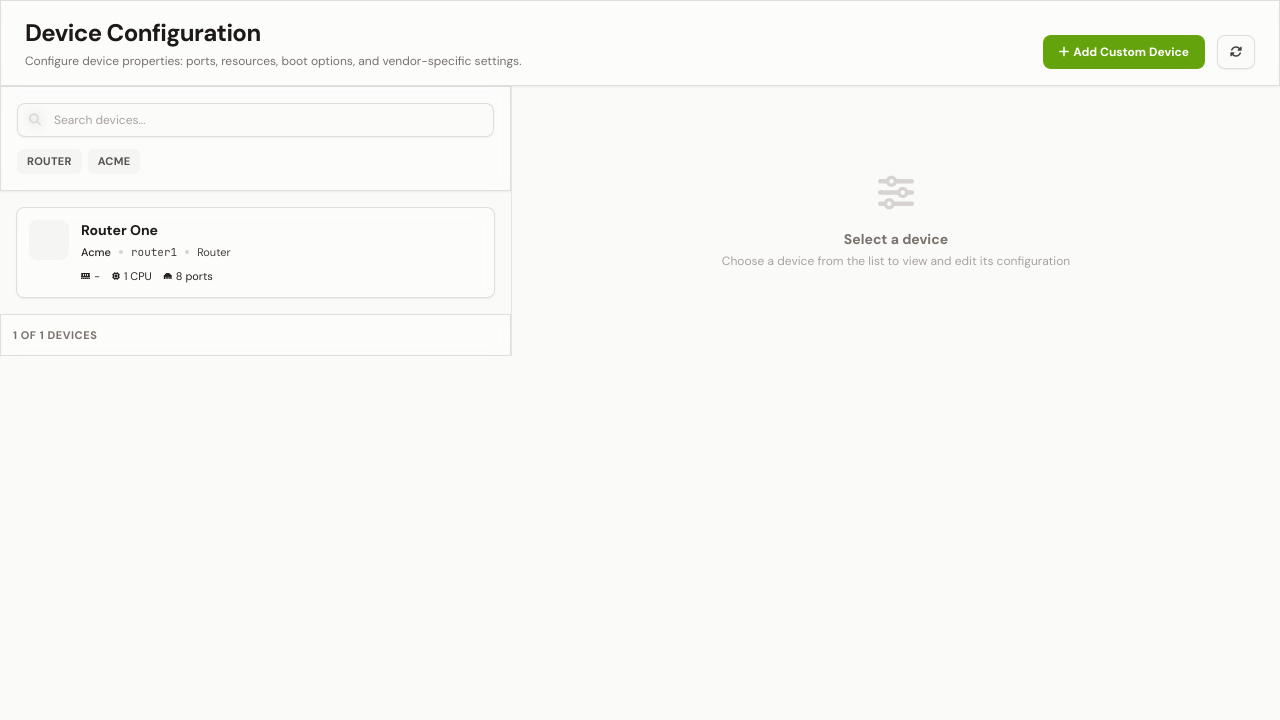
DeviceConfigManager - interactions › closes add modal after successful submission
Click the button "Add Custom Device" at x=1124, y=52, box left=1043, top=35, right=1205, bottom=69
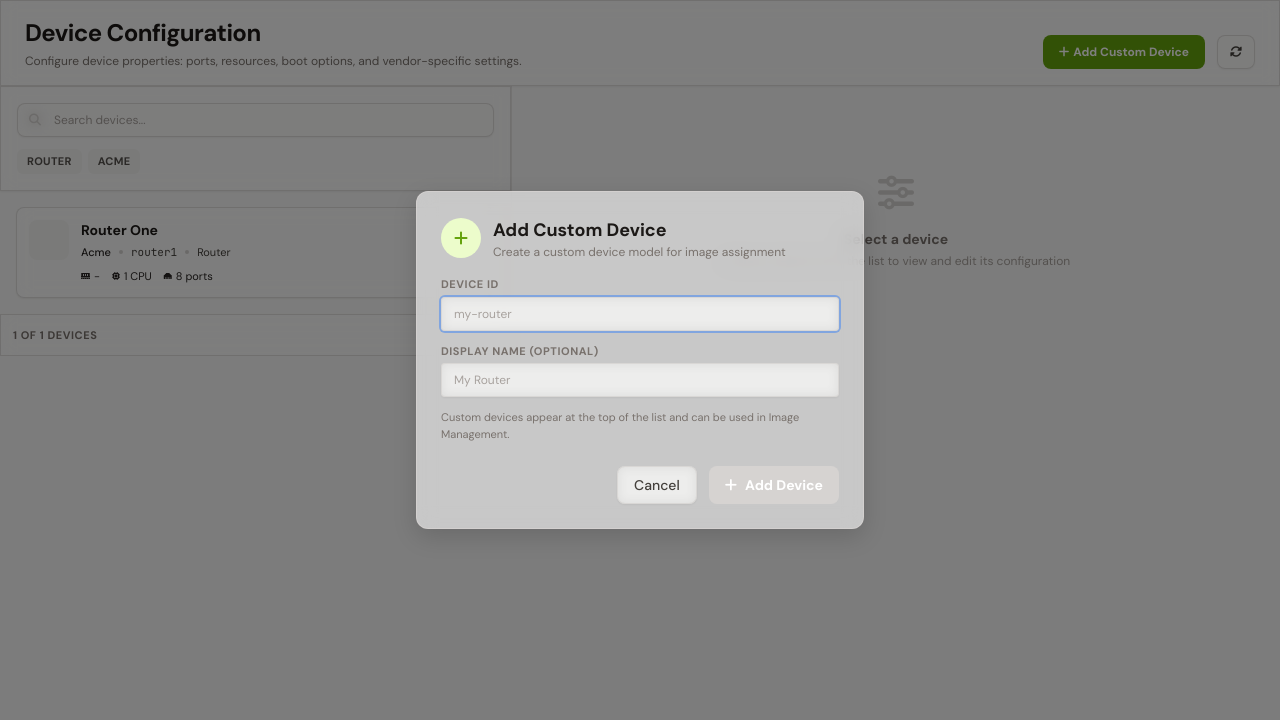
Result: the field with placeholder "my-router" is shown
Type "new-dev" into the field with placeholder "my-router" at x=640, y=314, box left=441, top=296, right=839, bottom=330
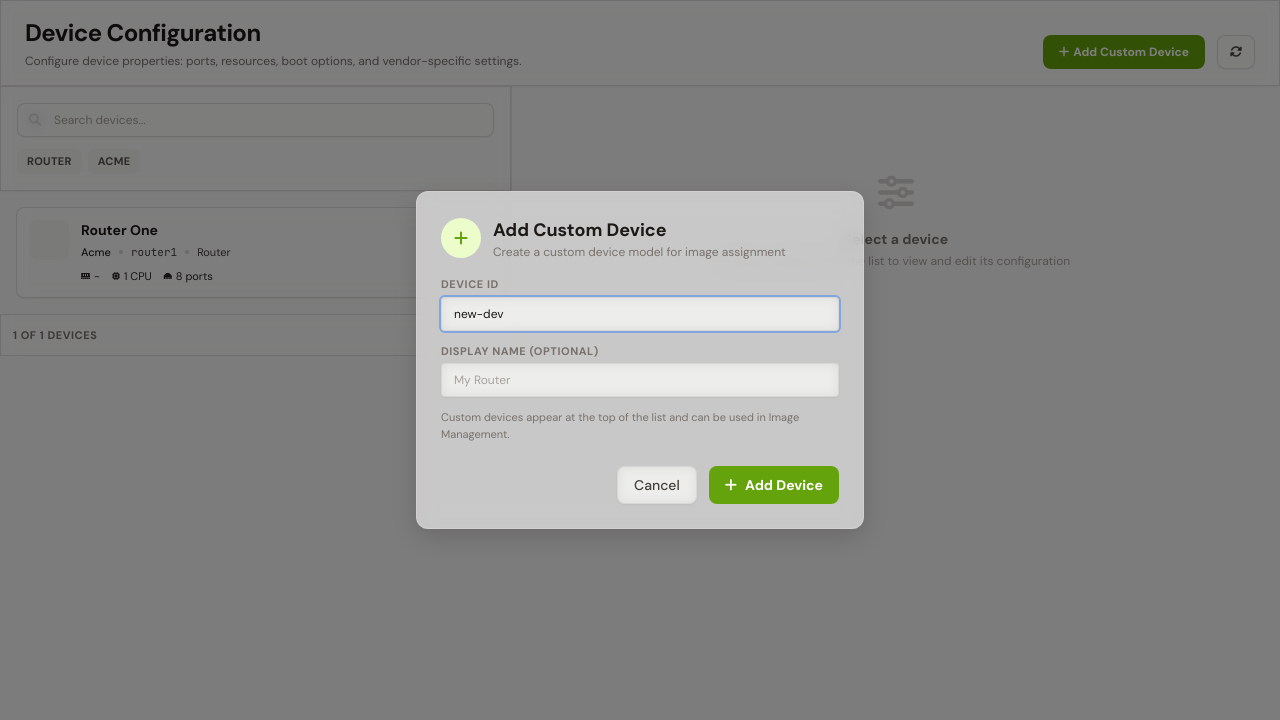
Click the button "Add Device" at x=774, y=485, box left=709, top=466, right=839, bottom=504
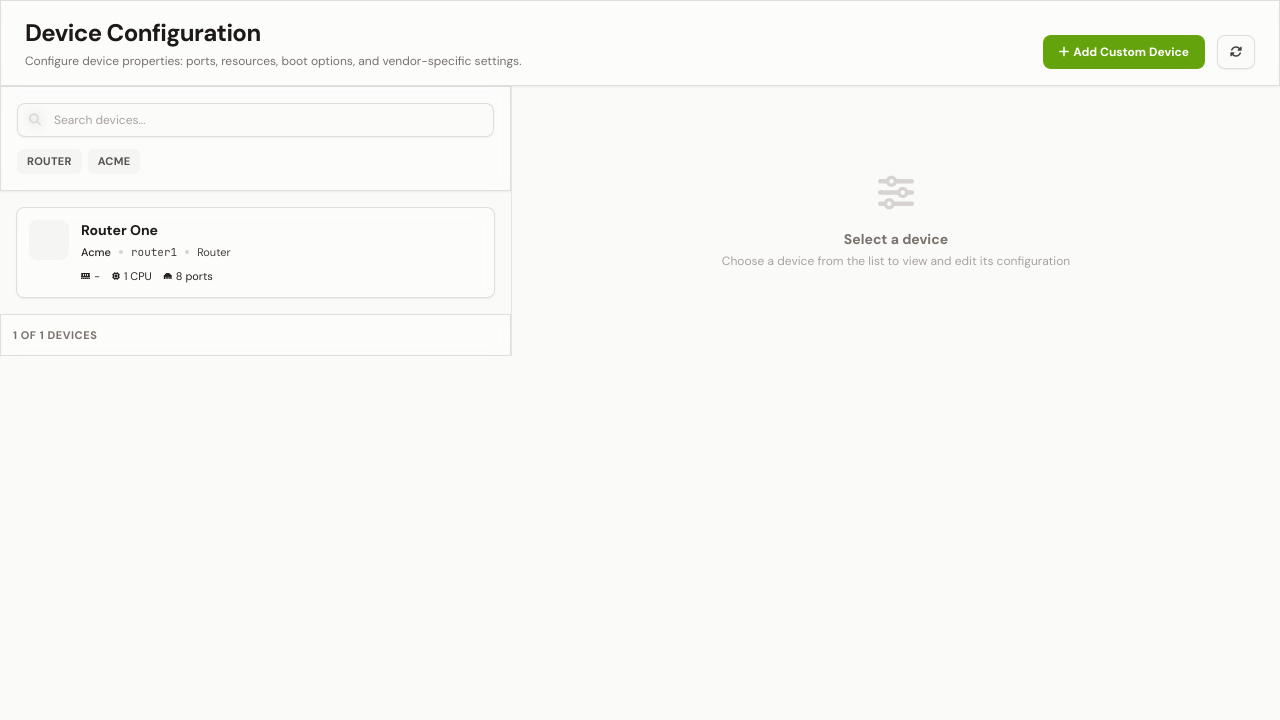
Result: the field with placeholder "my-router" is gone
